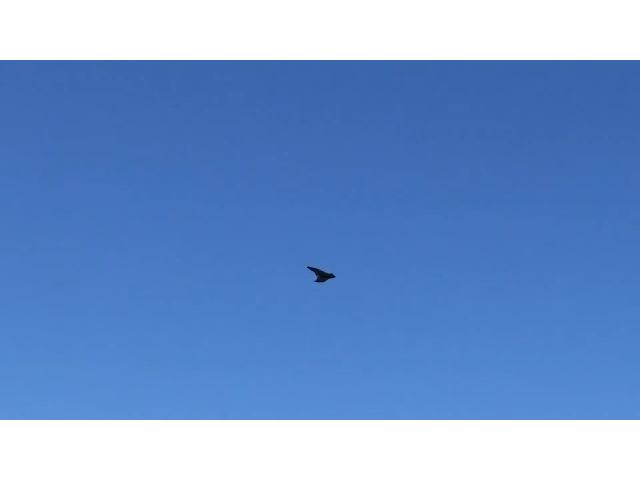Anti-Drone: (306, 256, 342, 296)
